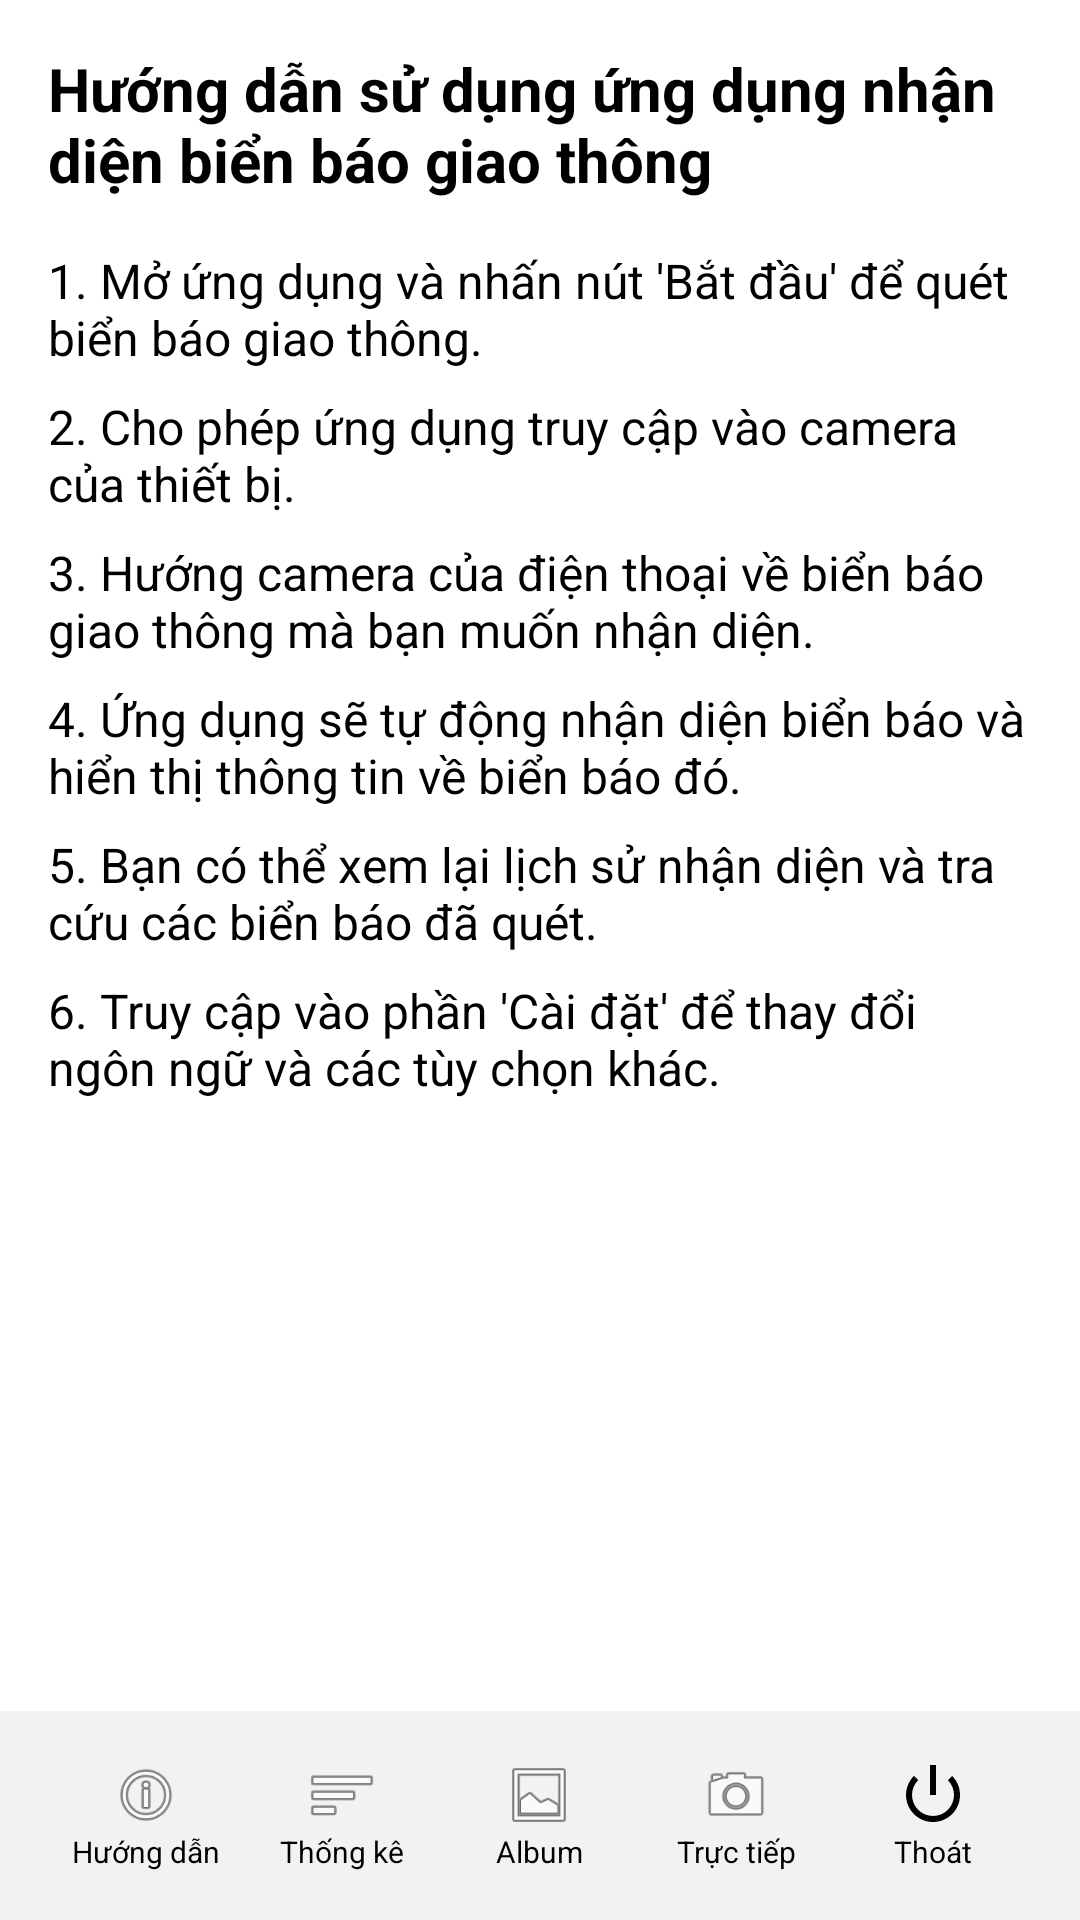

Named icons in this screenshot (1080 × 1920) and their bounding boxes, BBox(x1, y1, x2, y2):
camera: BBox(708, 1772, 764, 1816)
info details: BBox(120, 1769, 172, 1821)
lock power off: BBox(906, 1765, 960, 1822)
sort by size: BBox(311, 1775, 373, 1816)
